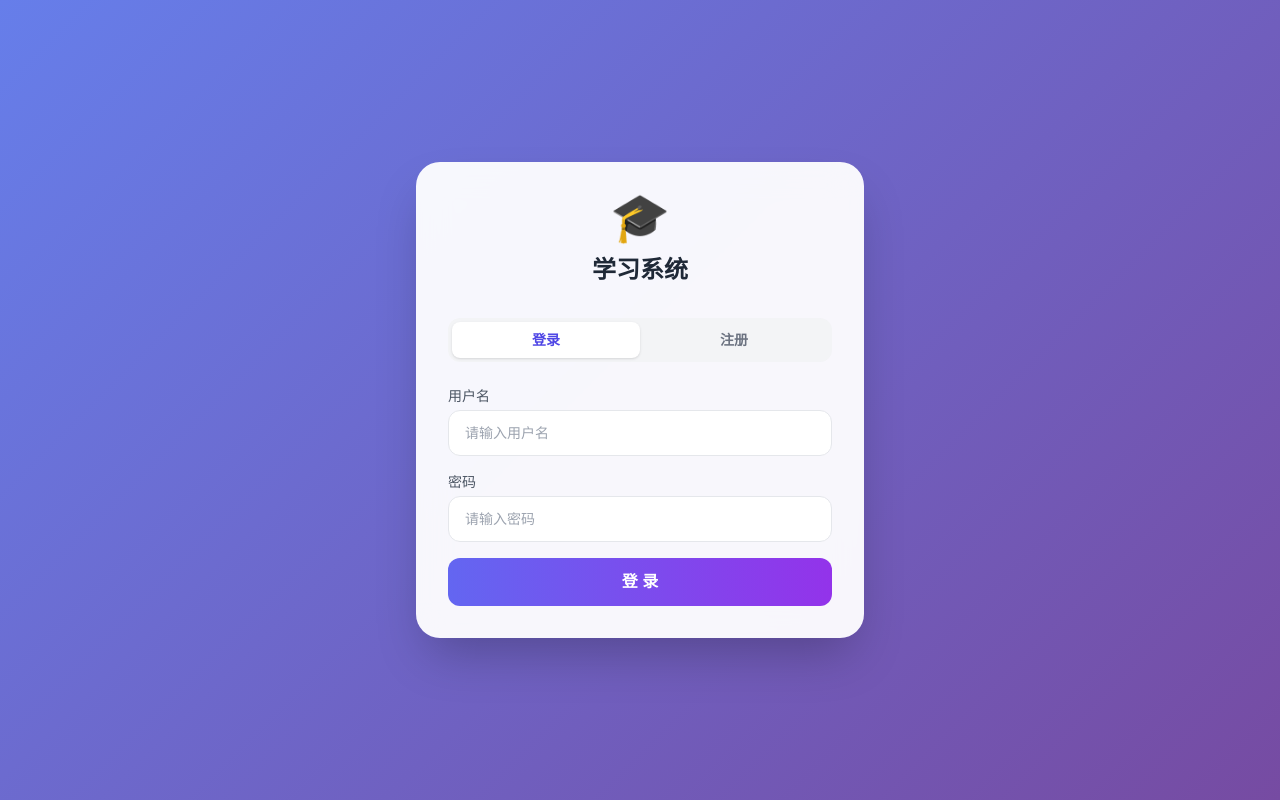
Scenario: Login 页面测试 › 4. 登录失败显示错误信息
Type "wrong" into the field with placeholder "请输入用户名" at x=640, y=433, box [448,410,832,456]
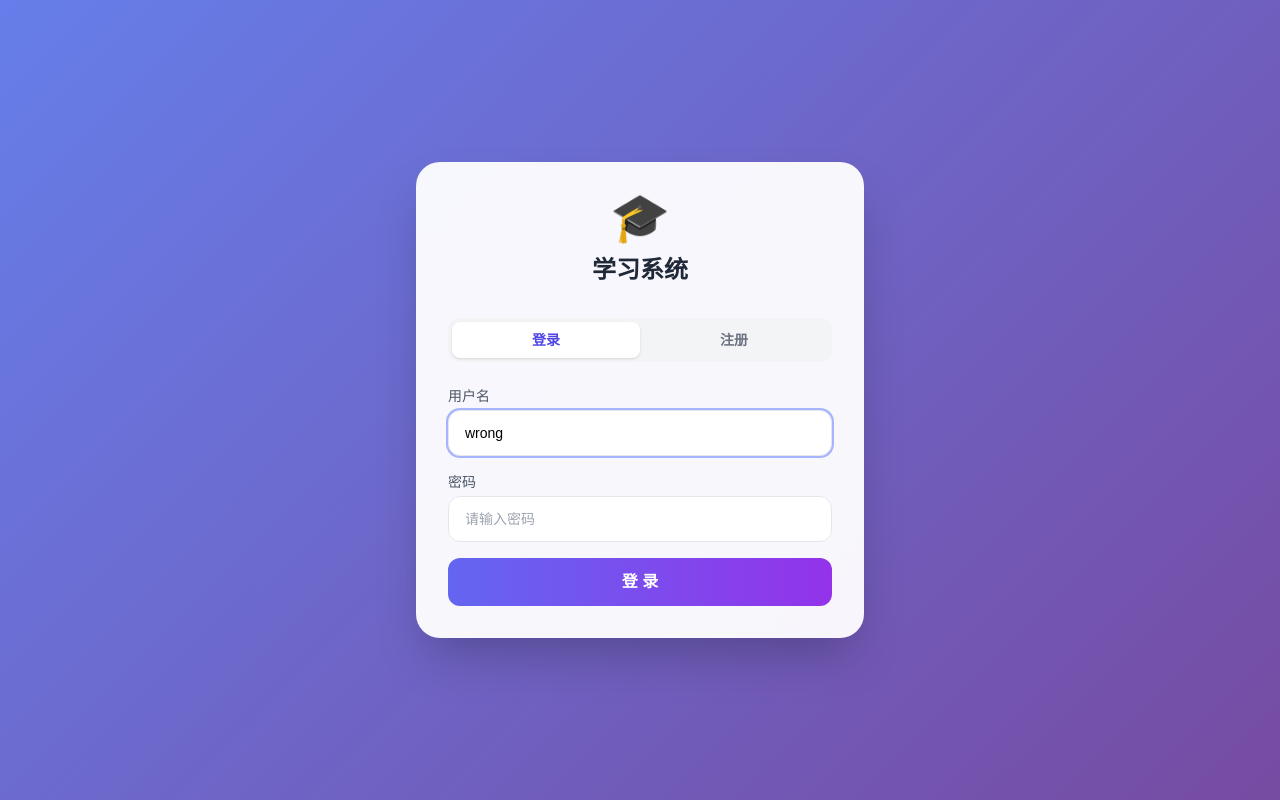
Type "wrong" into the password field with placeholder "请输入密码" at x=640, y=519, box [448,496,832,542]
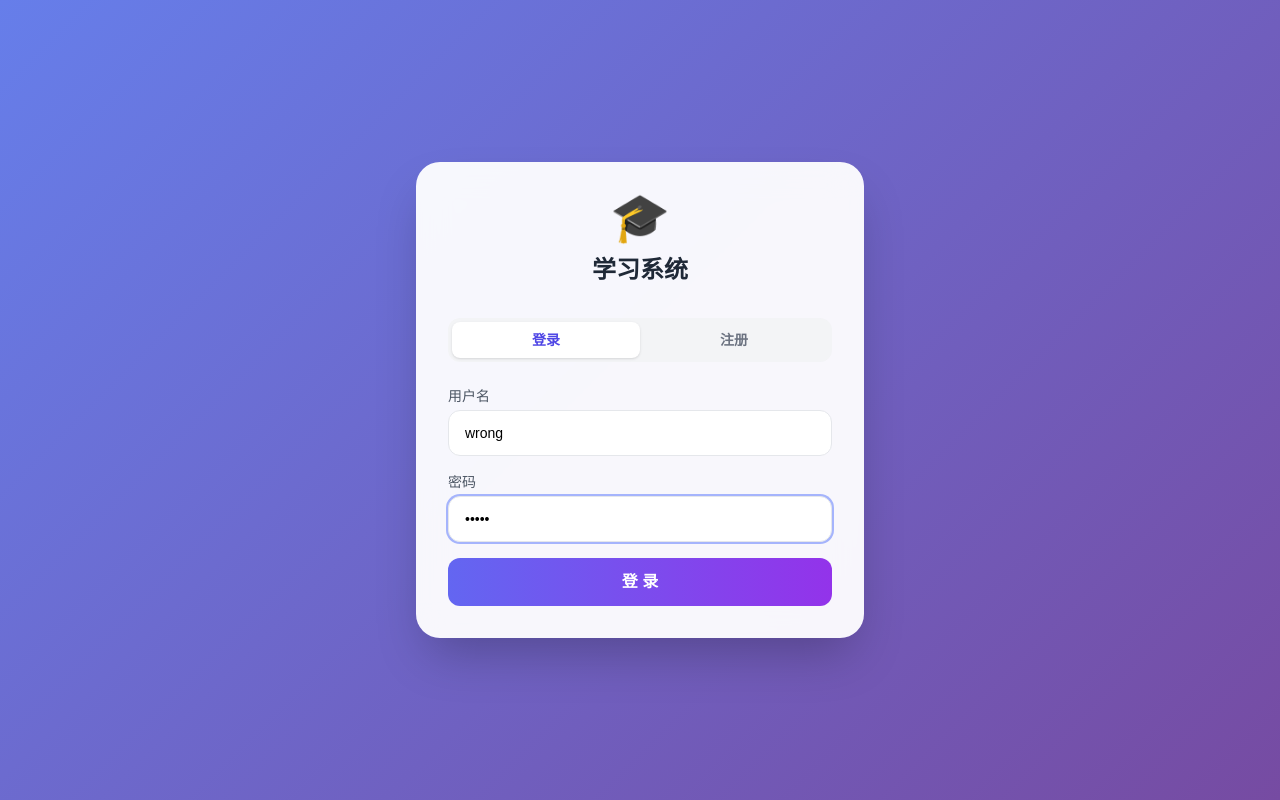
Click the button "登 录" at x=640, y=582, box [448,558,832,606]
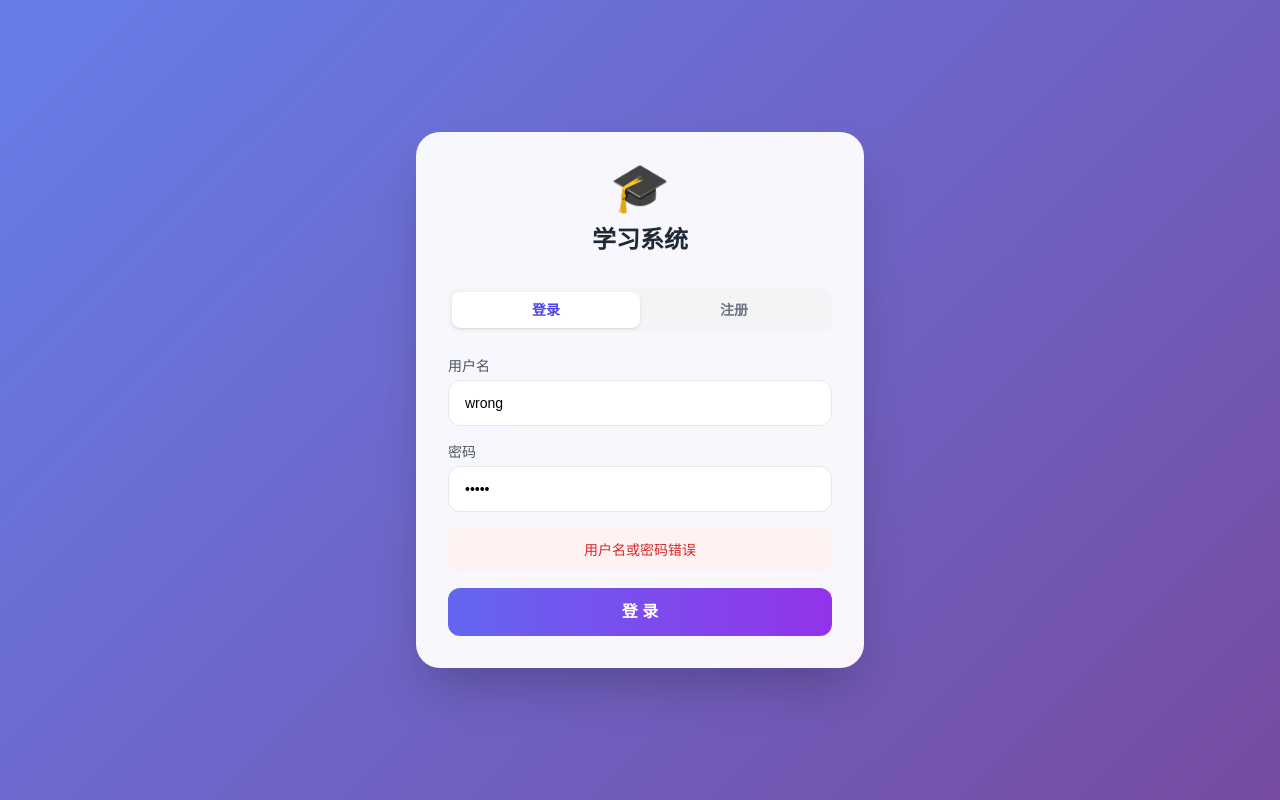
expect the text "用户名或密码错误" is shown: met, box [448,528,832,572]
